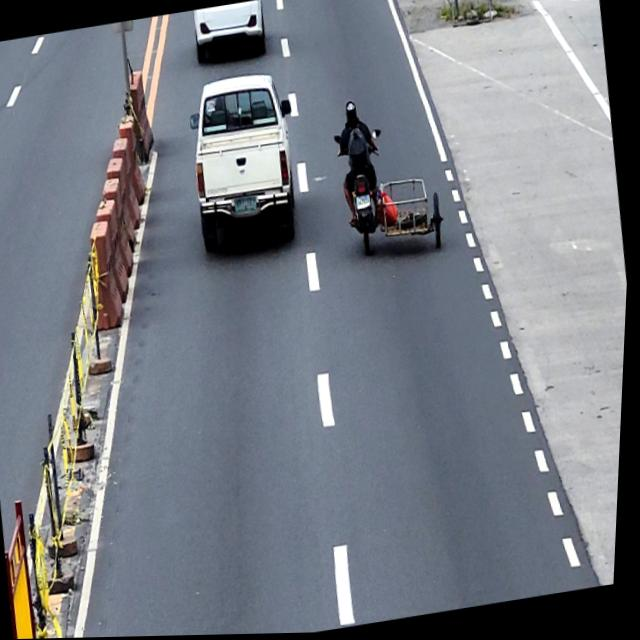Car: (180, 68, 312, 255), (190, 0, 271, 72)
License-Plate: (235, 197, 261, 218), (357, 195, 373, 212)
Tricycle: (330, 119, 453, 266)
